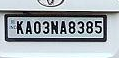0: (33, 20, 42, 34)
3: (42, 21, 50, 34), (77, 21, 85, 34)
5: (94, 20, 103, 34)
8: (68, 21, 76, 34), (86, 21, 94, 34)
A: (25, 20, 33, 34), (60, 20, 67, 34)
K: (16, 20, 25, 34)
N: (50, 20, 59, 35)
